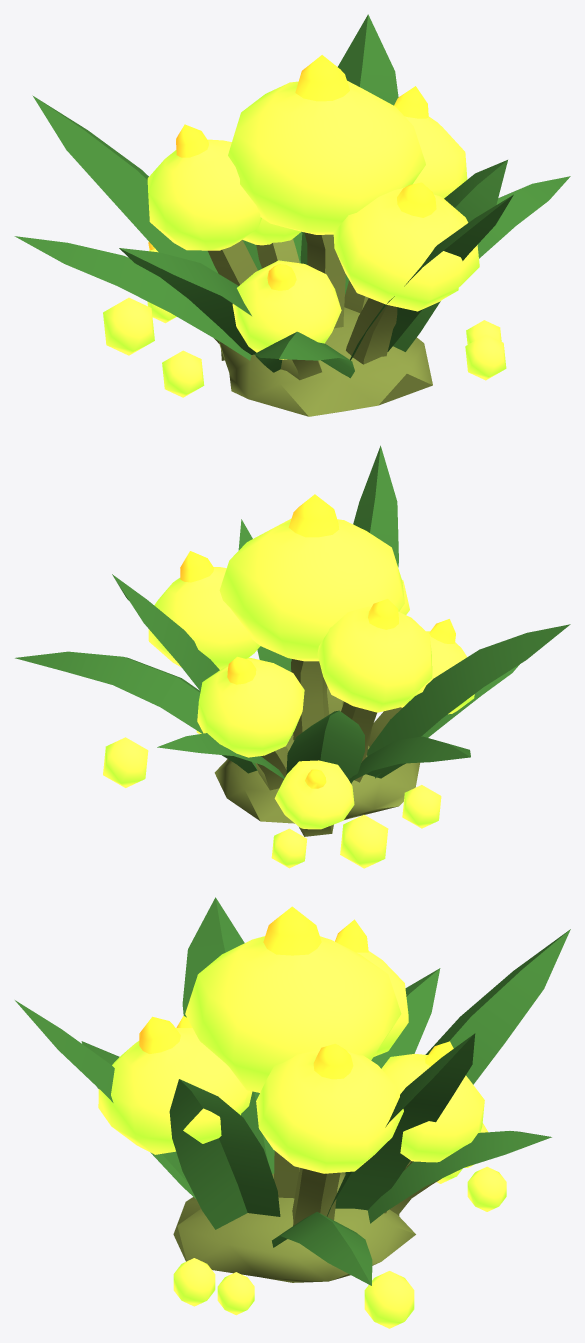
File: res_bulb_plant.glb
The picture shows the model from 3 angles, top to bottom: view 1: azimuth 30°, elevation 25°; view 2: azimuth 150°, elevation 25°; view 3: azimuth 270°, elevation 25°; orthographic projection. The views are drawn at different scales.
Visible parts, largest first — view 1: res_bulb_plant; view 2: res_bulb_plant; view 3: res_bulb_plant.
Part boxes in pixels (<box>): res_bulb_plant: <box>14,14,570,416</box>; res_bulb_plant: <box>15,445,570,868</box>; res_bulb_plant: <box>15,897,570,1328</box>.
Size of the model in its own units: 1.21 by 0.7107 by 1.05.
